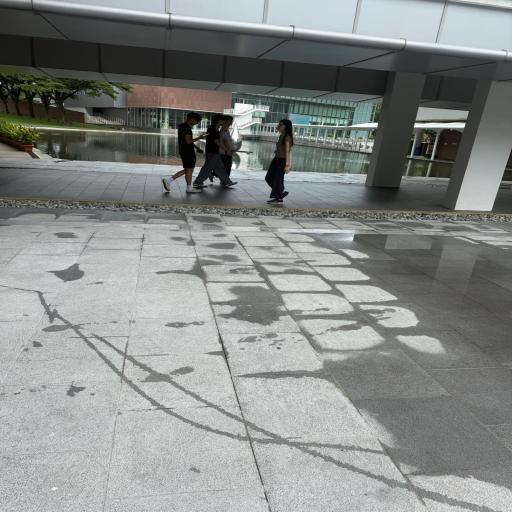person_left: (264, 119, 294, 204)
person_right: (162, 112, 206, 193), (192, 114, 238, 188), (208, 114, 234, 184)
